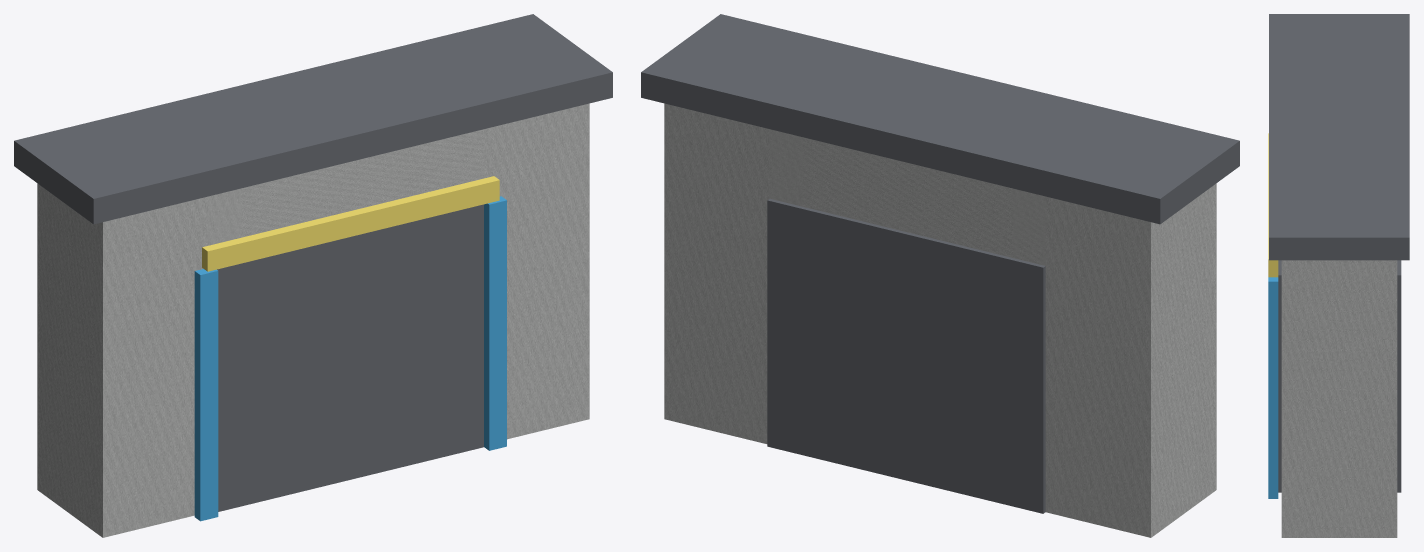
File: rock-cluster.glb
3 views of the same model, side by side, from view 1: azimuth 30°, elevation 25°; view 2: azimuth 150°, elevation 25°; view 3: azimuth 270°, elevation 25° (orthographic). The views are drawn at different scales.
Visible parts, largest first — view 1: entrance-tunnel-mouth-charcoal, entrance-tunnel-mouth-apron, entrance-tunnel-mouth-azure, entrance-tunnel-mouth-canary; view 2: entrance-tunnel-mouth-charcoal, entrance-tunnel-mouth-apron; view 3: entrance-tunnel-mouth-charcoal, entrance-tunnel-mouth-apron, entrance-tunnel-mouth-azure, entrance-tunnel-mouth-canary.
Part boxes in pixels (x1,y1,x2,y2): entrance-tunnel-mouth-charcoal: (14, 14, 612, 511); entrance-tunnel-mouth-apron: (37, 103, 589, 537); entrance-tunnel-mouth-azure: (194, 196, 506, 521); entrance-tunnel-mouth-canary: (202, 176, 499, 271); entrance-tunnel-mouth-charcoal: (641, 14, 1239, 513); entrance-tunnel-mouth-apron: (664, 103, 1216, 537); entrance-tunnel-mouth-charcoal: (1269, 14, 1409, 492); entrance-tunnel-mouth-apron: (1281, 260, 1397, 537); entrance-tunnel-mouth-azure: (1268, 277, 1278, 498); entrance-tunnel-mouth-canary: (1268, 133, 1278, 277).
Bounding box in the file's own units: 6.4 × 4.1 × 1.71.
Materials: 4 (1 with a texture image).
